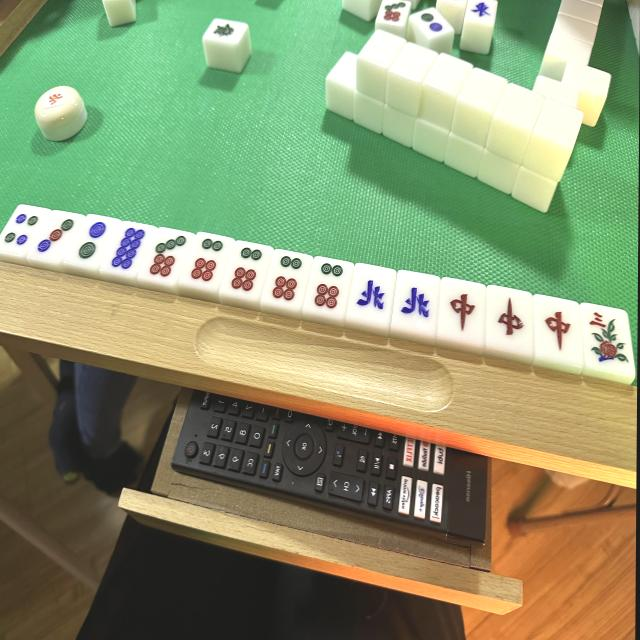ff3: (579, 303, 636, 377)
north: (397, 272, 438, 326), (353, 268, 391, 316)
t2: (75, 218, 113, 266)
t3: (36, 214, 78, 260)
t4: (0, 207, 44, 255)
t6: (309, 259, 352, 315), (267, 252, 309, 308), (228, 242, 268, 296), (188, 233, 227, 288)
t7: (148, 228, 190, 283)
t8: (109, 222, 149, 275)
zhong: (534, 295, 586, 368), (484, 287, 533, 355), (441, 280, 484, 337)
